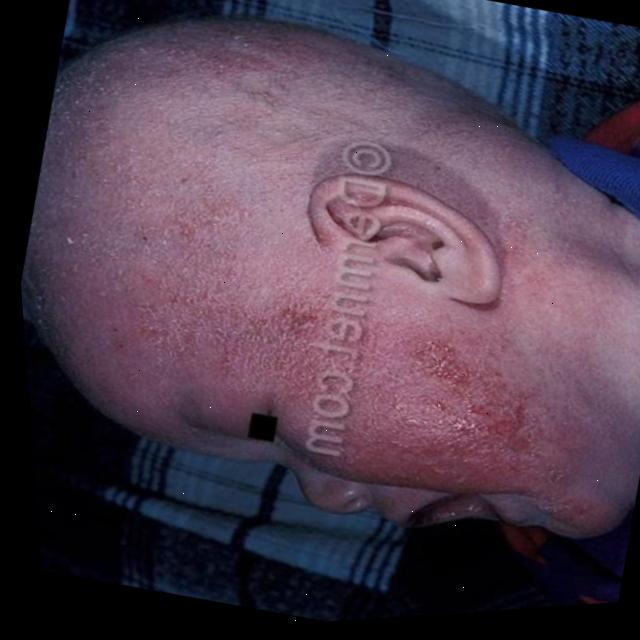Eczema: (101, 233, 593, 540)
